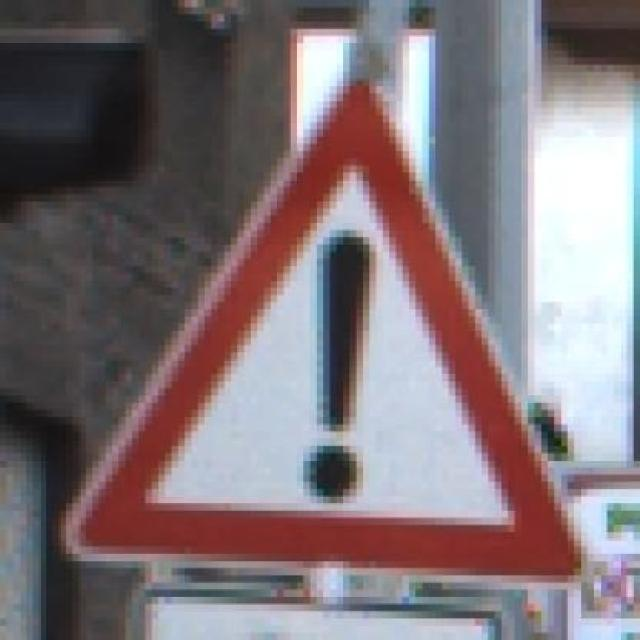Attention Please-: (59, 65, 595, 589)
